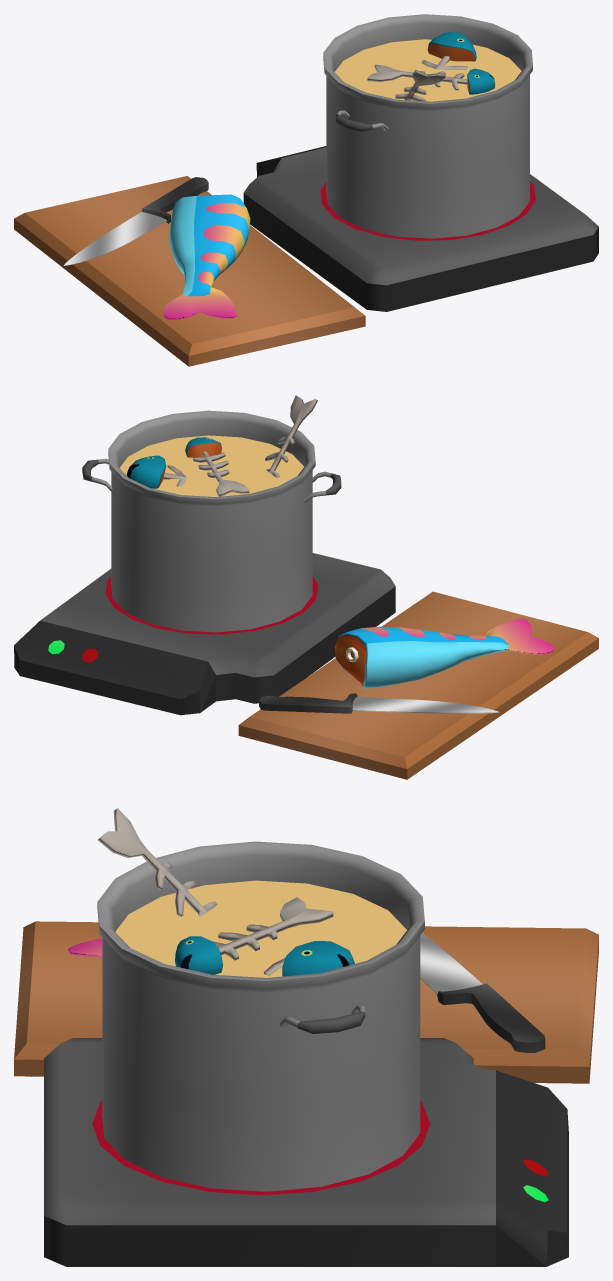
The model's file is Station Fish soup.fbx.
3 views of the same model, one above another, from view 1: azimuth 30°, elevation 25°; view 2: azimuth 150°, elevation 25°; view 3: azimuth 270°, elevation 25° (orthographic). The views are drawn at different scales.
Parts seen in each view (by area): view 1: Station_Fish_soup; view 2: Station_Fish_soup; view 3: Station_Fish_soup.
Part boxes in pixels (x1=…): Station_Fish_soup: x1=14, y1=14, x2=598, y2=366; Station_Fish_soup: x1=14, y1=395, x2=598, y2=779; Station_Fish_soup: x1=14, y1=808, x2=598, y2=1266.
Size of the model in its own units: 186 by 86.44 by 138.
